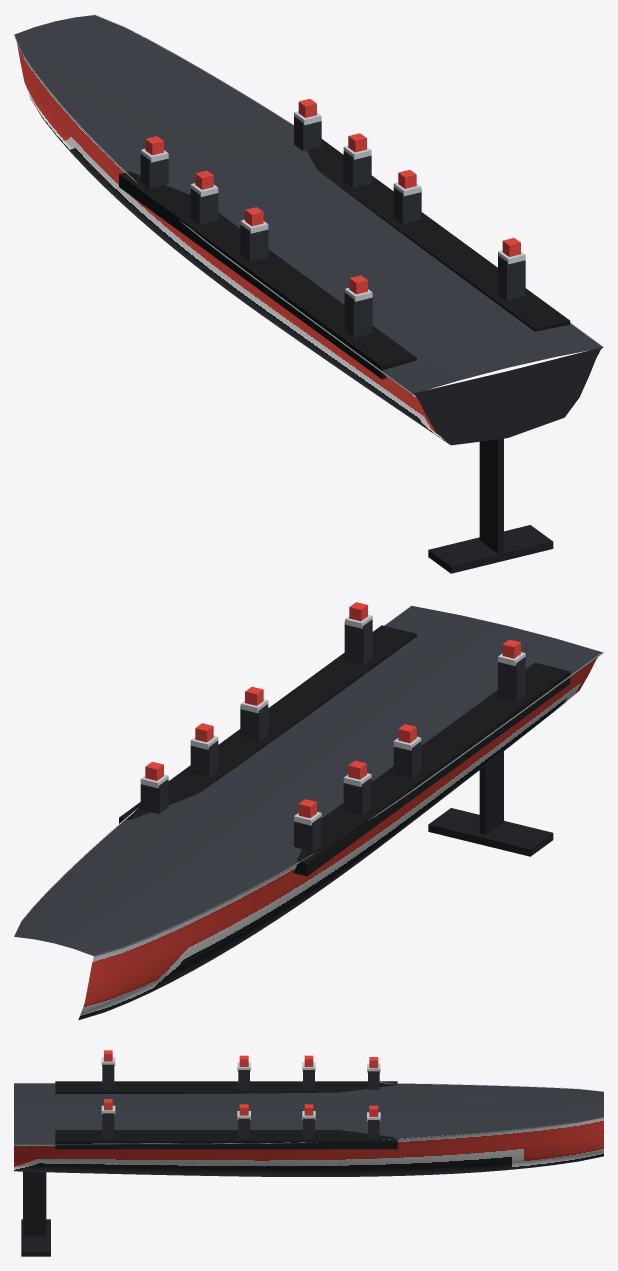
The model's file is hull_1.glb.
3 renders of one model, top to bottom at view 1: azimuth 30°, elevation 25°; view 2: azimuth 150°, elevation 25°; view 3: azimuth 270°, elevation 25°, orthographic. The views are drawn at different scales.
Parts seen in each view (by area): view 1: hull_1_body; view 2: hull_1_body; view 3: hull_1_body.
Part boxes in pixels (box(x1,y1,x2,y2)): hull_1_body: box(14, 14, 603, 573); hull_1_body: box(14, 602, 603, 1020); hull_1_body: box(14, 1050, 603, 1256).
Size of the model in its own units: 4.9 by 6.13 by 20.
Materials: 1 (1 with a texture image).
